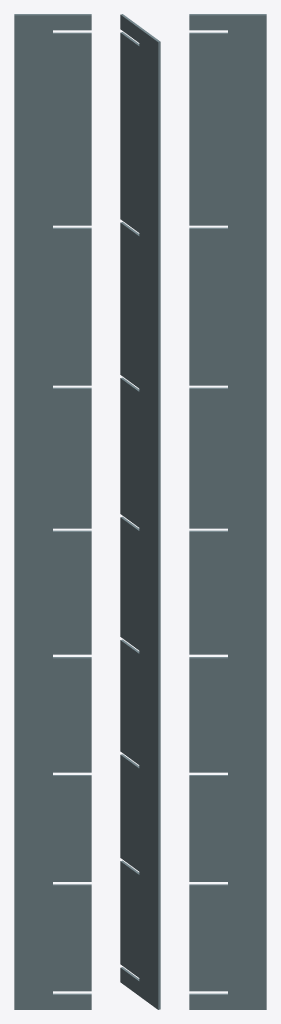
The model's file is esp2023_p04_stiffener.glb.
The picture shows the model from 3 angles, left to right: view 1: azimuth 90°, elevation 25°; view 2: azimuth 210°, elevation 25°; view 3: azimuth 270°, elevation 25°; orthographic projection. The views are drawn at different scales.
Visible parts, largest first — view 1: stiffener; view 2: stiffener; view 3: stiffener.
Boxes of the visible parts, <box> form: stiffener: <box>14,14,91,1009</box>; stiffener: <box>120,14,160,1009</box>; stiffener: <box>189,14,266,1009</box>.
Size of the model in its own units: 15 by 5910 by 418.
